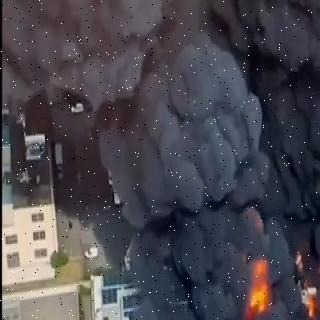smoke: (5, 8, 320, 207), (108, 222, 240, 320)
